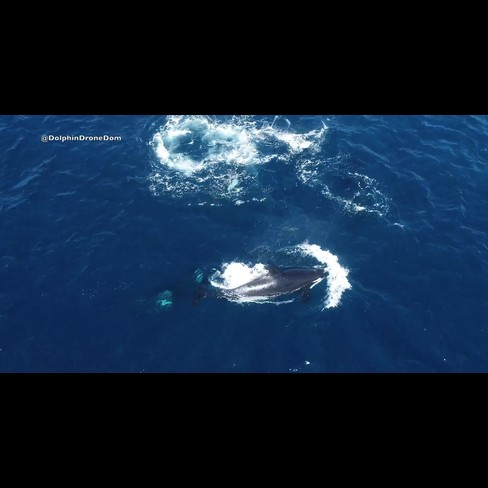orca: (187, 255, 342, 315)
